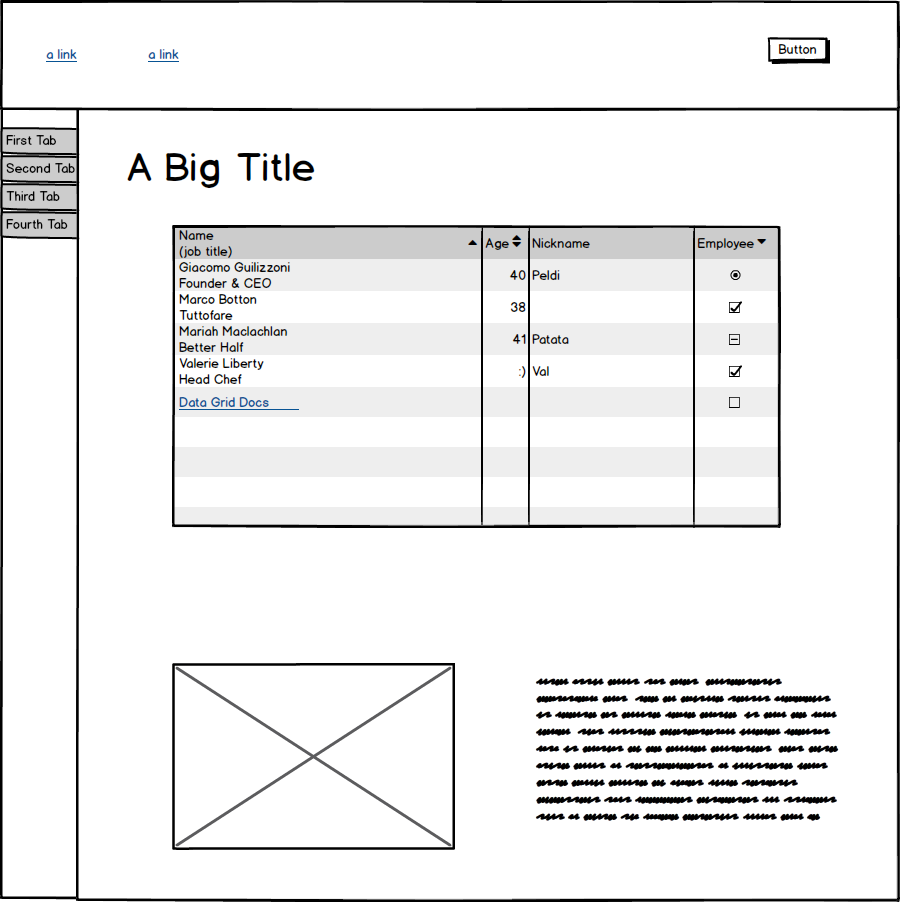button: (757, 31, 841, 72)
h1: (116, 139, 330, 197)
image: (164, 656, 459, 857)
navlink: (144, 41, 196, 71), (34, 39, 82, 70)
p: (527, 665, 853, 837)
sidebar: (1, 122, 90, 245)
table: (165, 216, 789, 534)
